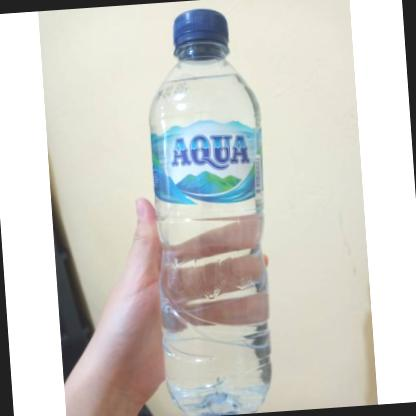plastic_bottles: (134, 5, 284, 416)
